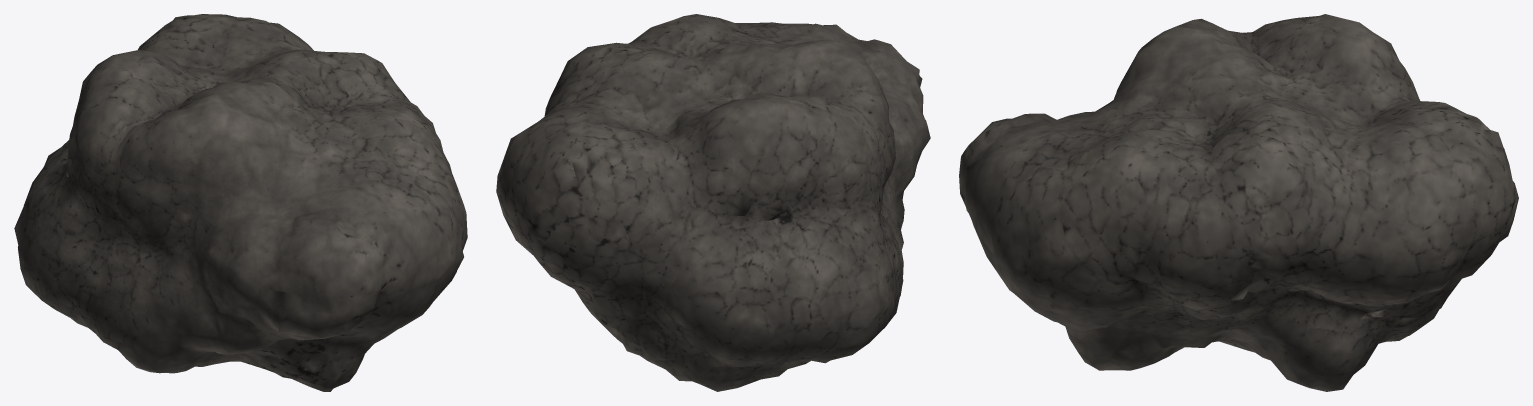
Rendered from small_b.glb.
The picture shows the model from 3 angles, left to right: view 1: azimuth 30°, elevation 25°; view 2: azimuth 150°, elevation 25°; view 3: azimuth 270°, elevation 25°; orthographic projection. The views are drawn at different scales.
Parts seen in each view (by area): view 1: AsteroidSmallB; view 2: AsteroidSmallB; view 3: AsteroidSmallB.
Boxes of the visible parts, x1,y1,x2,y2 form: AsteroidSmallB: (14,14,467,391); AsteroidSmallB: (496,14,930,391); AsteroidSmallB: (959,14,1518,391).
Size of the model in its own units: 1.49 by 1.17 by 1.92.
Materials: 1 (1 with a texture image).
